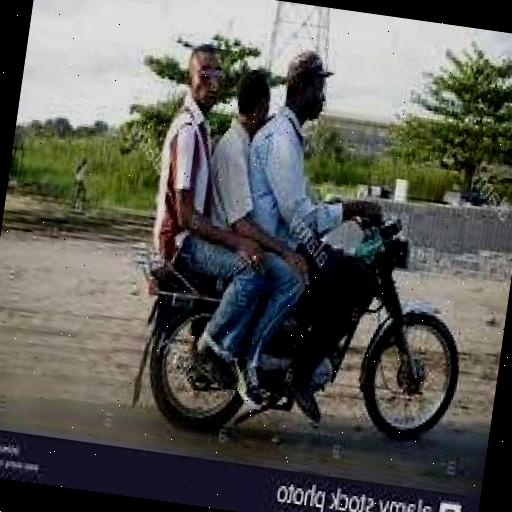no helmet: (270, 36, 348, 146)
triple riding: (102, 16, 512, 462)
